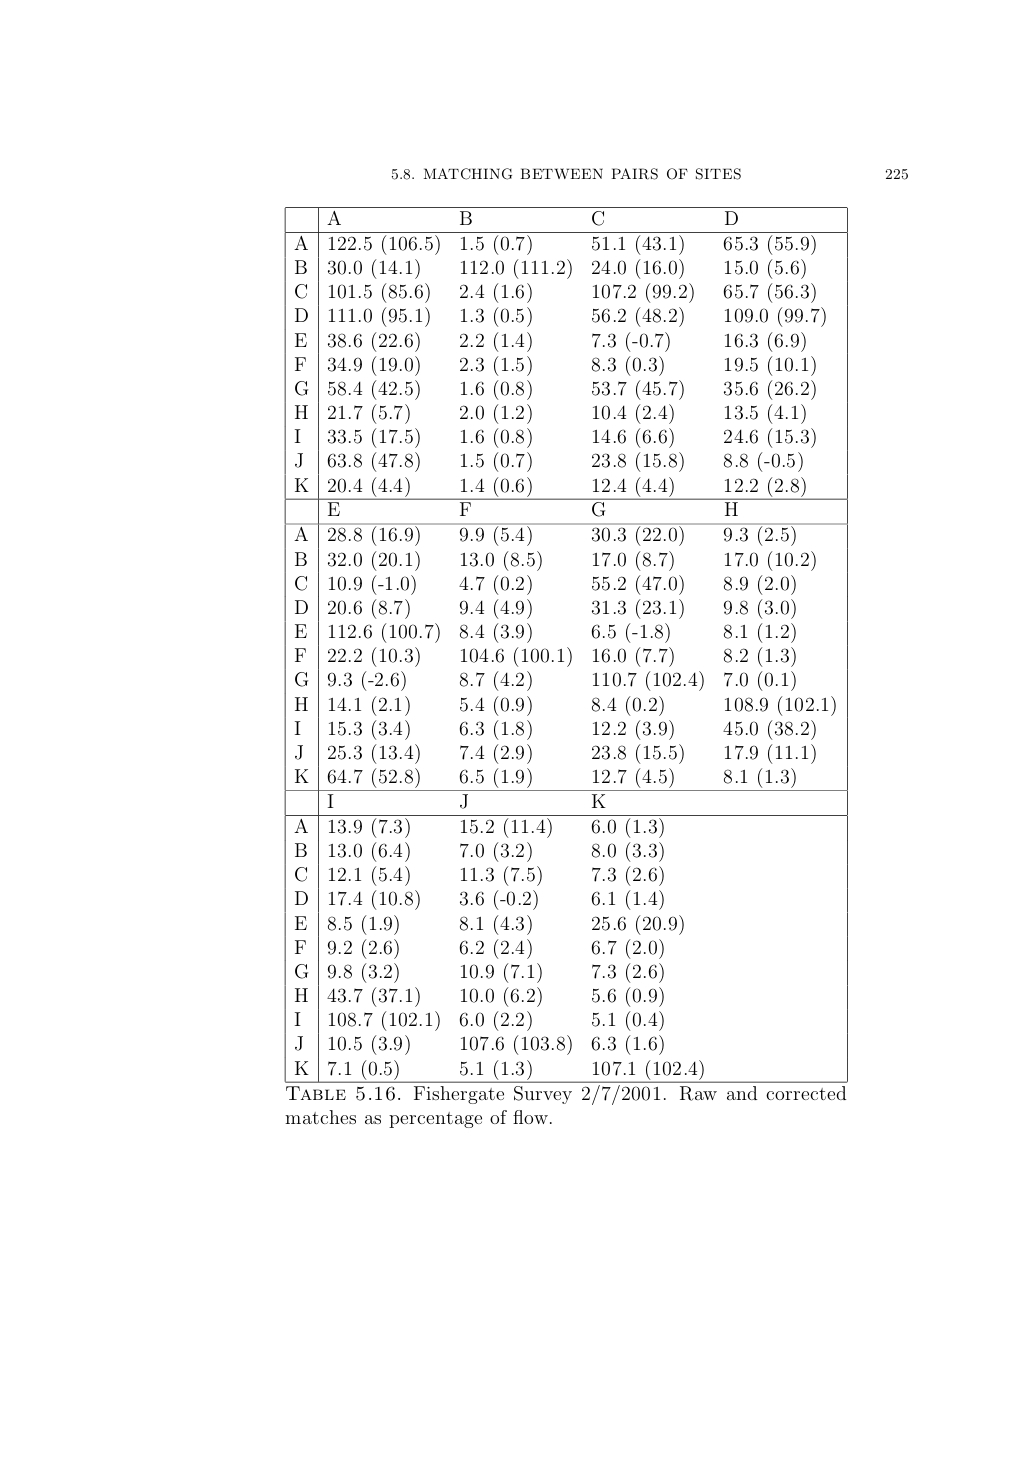Table: (285, 207, 847, 1082)
